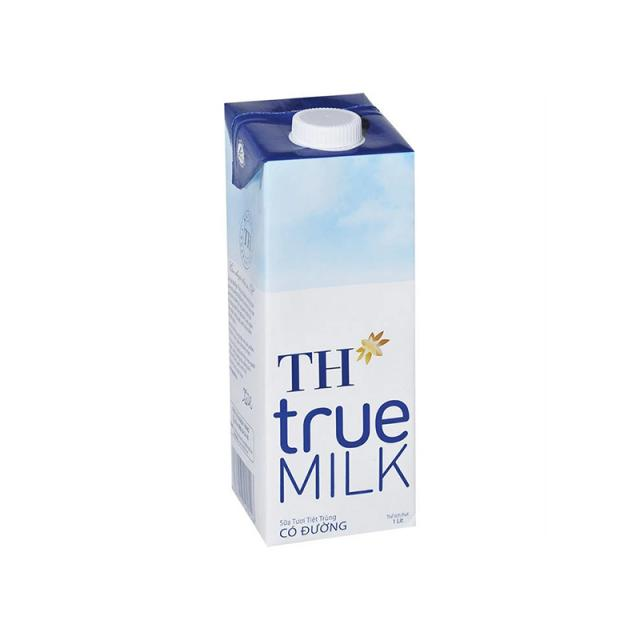non_white_jug: (218, 84, 450, 540)
